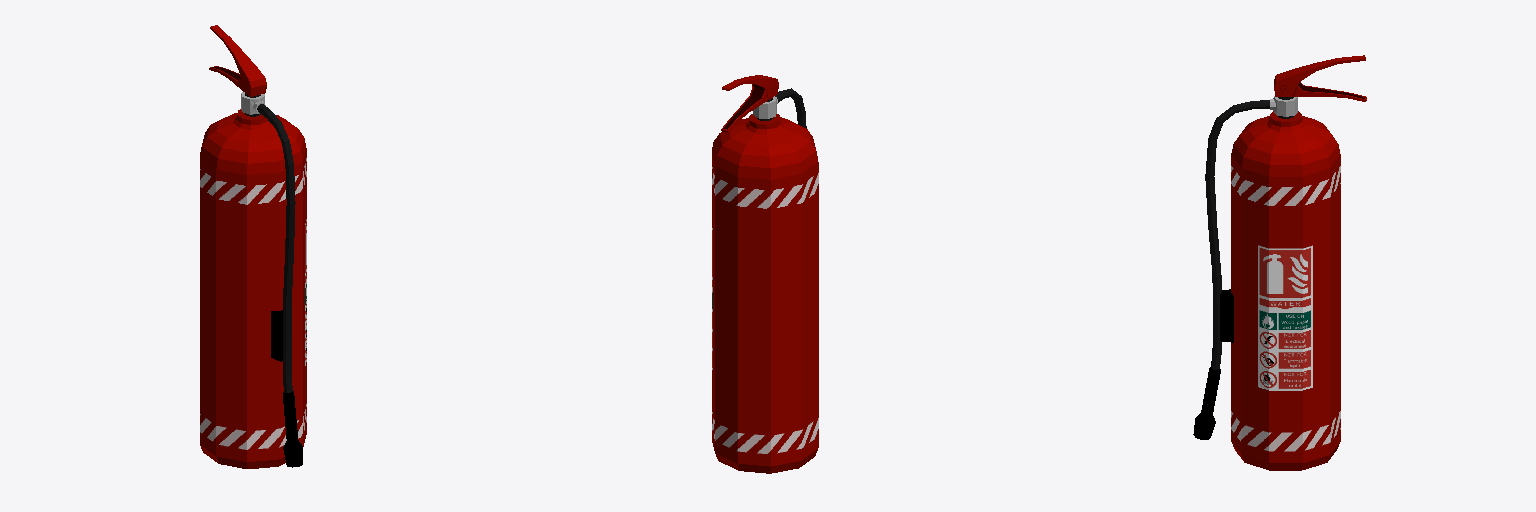
The picture shows the model from 3 angles: view 1: azimuth 30°, elevation 25°; view 2: azimuth 150°, elevation 25°; view 3: azimuth 270°, elevation 25°; orthographic projection.
Parts seen in each view (by area): view 1: Extinguisher; view 2: Extinguisher; view 3: Extinguisher.
Boxes of the visible parts, x1=… form: Extinguisher: x1=200, y1=25, x2=306, y2=468; Extinguisher: x1=712, y1=75, x2=818, y2=473; Extinguisher: x1=1193, y1=55, x2=1366, y2=470.
Bounding box in the file's own units: 1.25 × 5.26 × 2.08.
Materials: 1 (1 with a texture image).